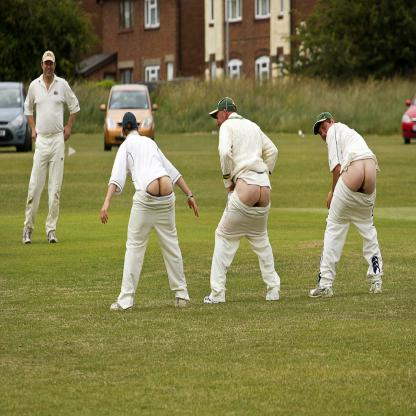Car: (100, 83, 158, 151), (1, 80, 31, 151), (402, 94, 416, 142)
